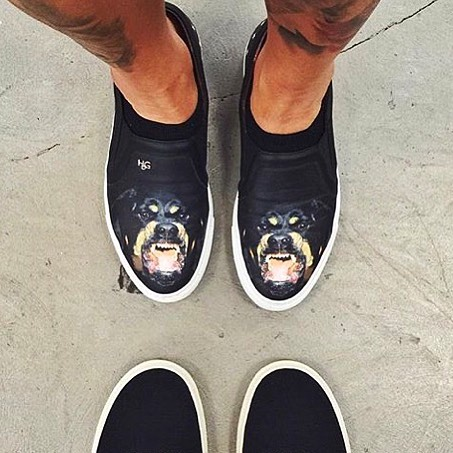sneaker: (91, 1, 224, 322), (225, 1, 353, 321)
